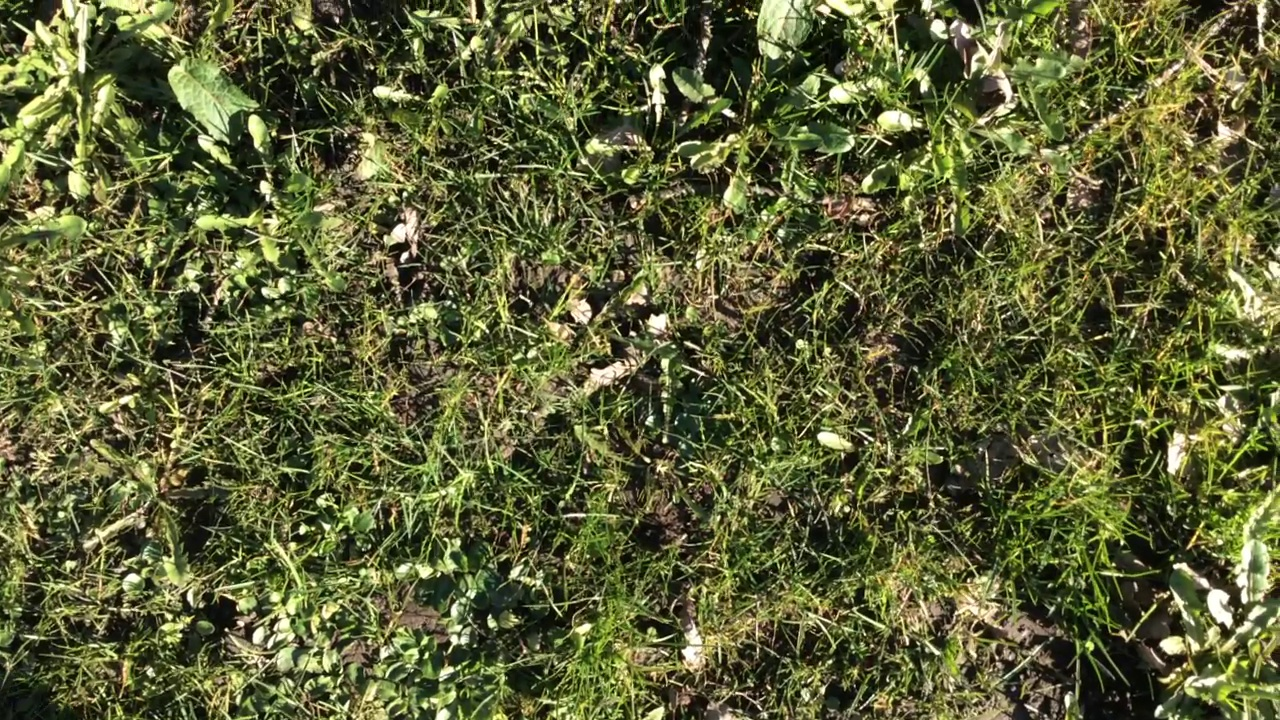rumex: (168, 53, 256, 147), (758, 1, 816, 61), (674, 70, 713, 102)
